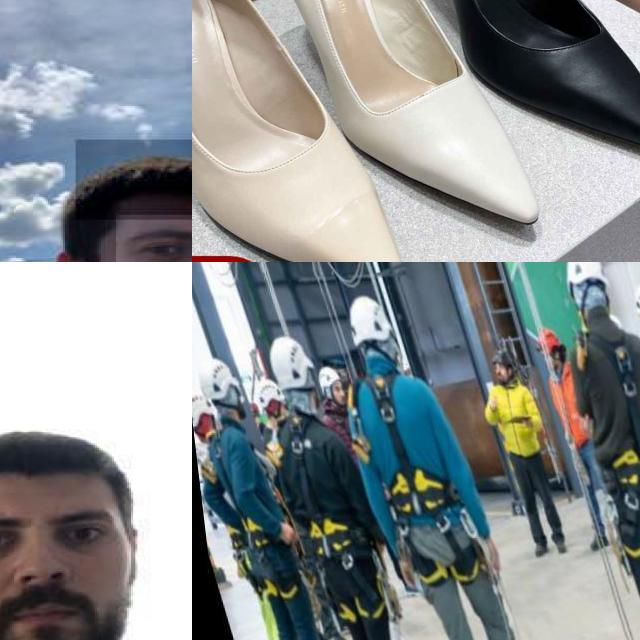Harness: (368, 377, 459, 517)
No_Ear-Protection: (49, 245, 102, 262)
No_Glasses: (0, 504, 127, 565), (109, 217, 192, 262)
Sandals: (265, 0, 557, 249), (192, 0, 428, 262), (365, 0, 640, 175)
face_nomask: (0, 501, 129, 640)
head_nohelmet: (0, 430, 150, 502), (75, 139, 192, 219)
person: (0, 131, 192, 262)
